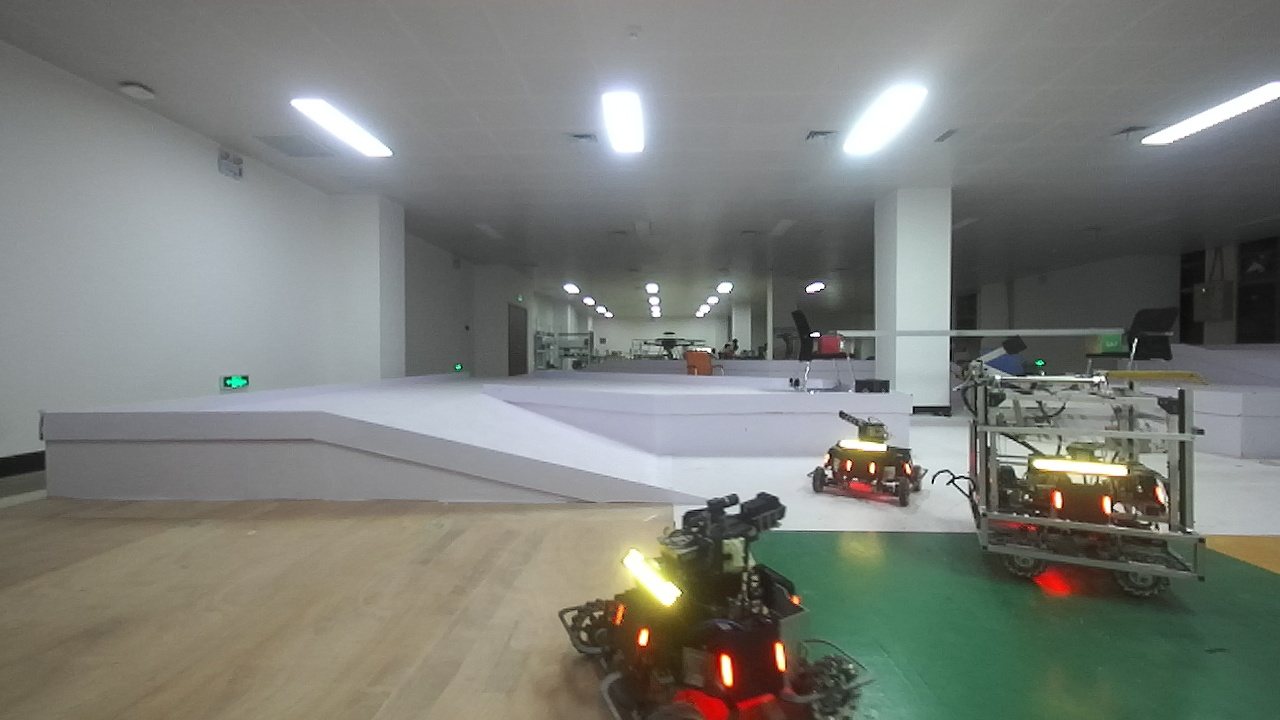car: (949, 334, 1227, 613), (544, 496, 867, 720), (802, 396, 936, 527)
